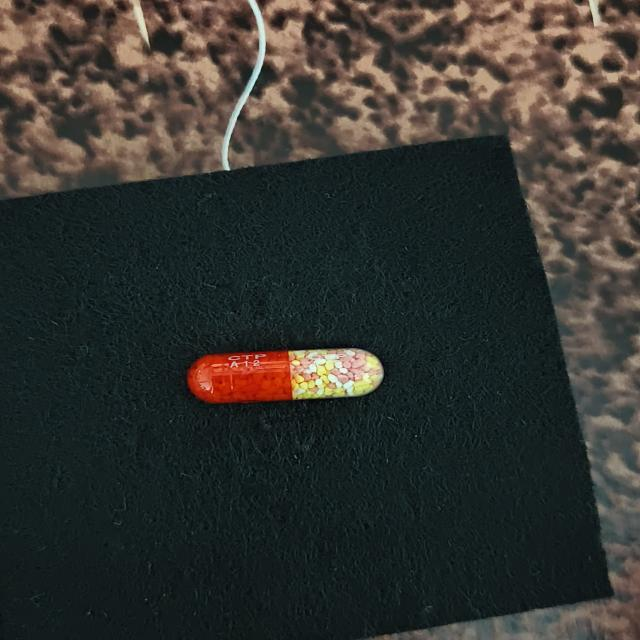Intact Capsule: (187, 348, 384, 403)
